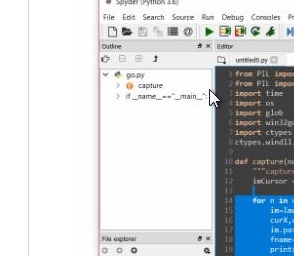cursor: (208, 88, 221, 109)
